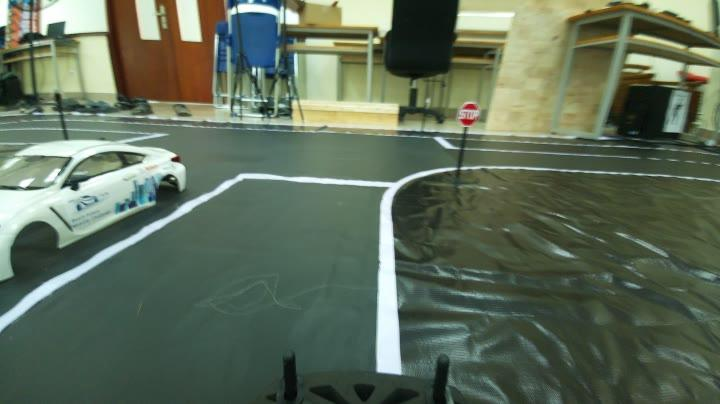car: (4, 136, 206, 276)
stop: (456, 92, 486, 132)
